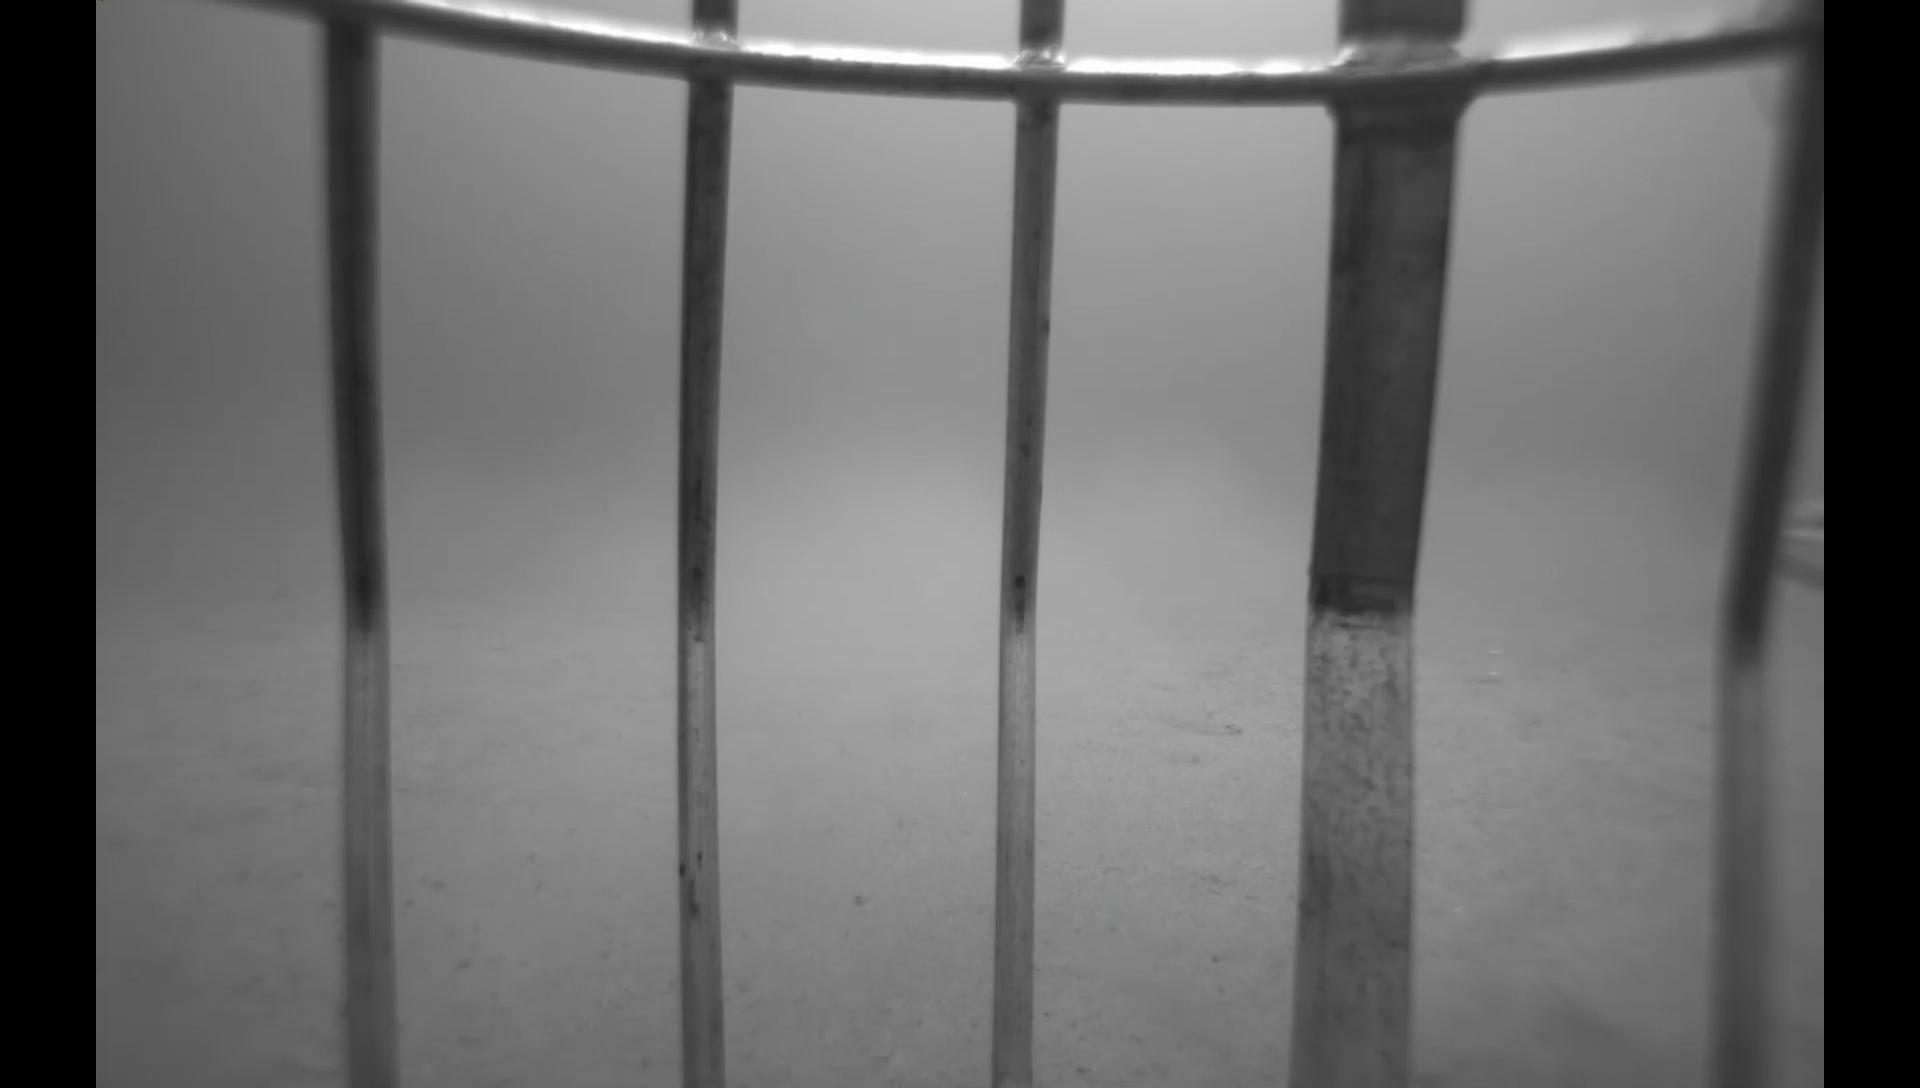CAULOLATILUSCYANOPS-170070101: (1772, 469, 1832, 611)
SYACIUM-183011000: (1143, 699, 1249, 742)
